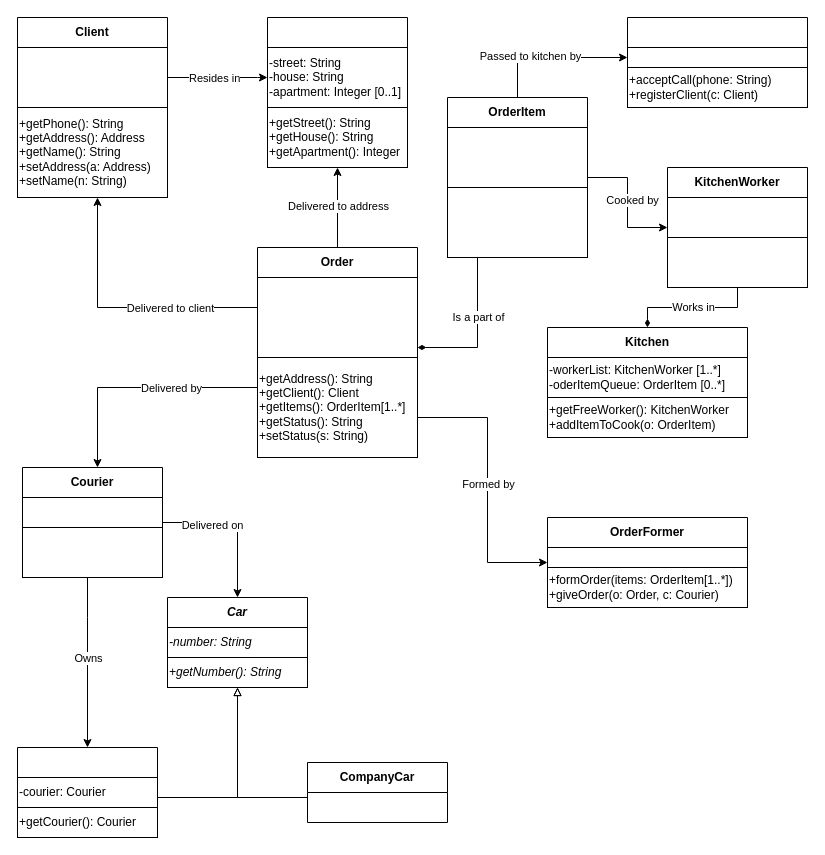
Image size: 825x855. Some labels were removed from this diagram. Here are the shapes that lost their labels. From the top down, the box of each, then its label:
(16, 46, 168, 108): -phone: String -defaultAddress: Address -name: String
(626, 16, 808, 108): Operator
(266, 16, 408, 168): Address
(446, 126, 588, 188): -dishName: String -count: Integer = {1} -price: Integer
(446, 186, 588, 258): +getDishName(): String +getPrice(): Integer +addItem() +removeItem()
(666, 196, 808, 238): -id: Integer -cooking: Boolean
(666, 236, 808, 288): +cookItem(i: OrderItem) +getId(): Integer +isCooking(): Boolean
(256, 276, 418, 358): -address: Address -client: Client -items: OrderItem [1..*] -status:String
(22, 496, 162, 528): -name: String
(22, 526, 162, 578): +getName(): String +deliver(o: Order, c: Car)
(16, 746, 158, 838): CourierCar
